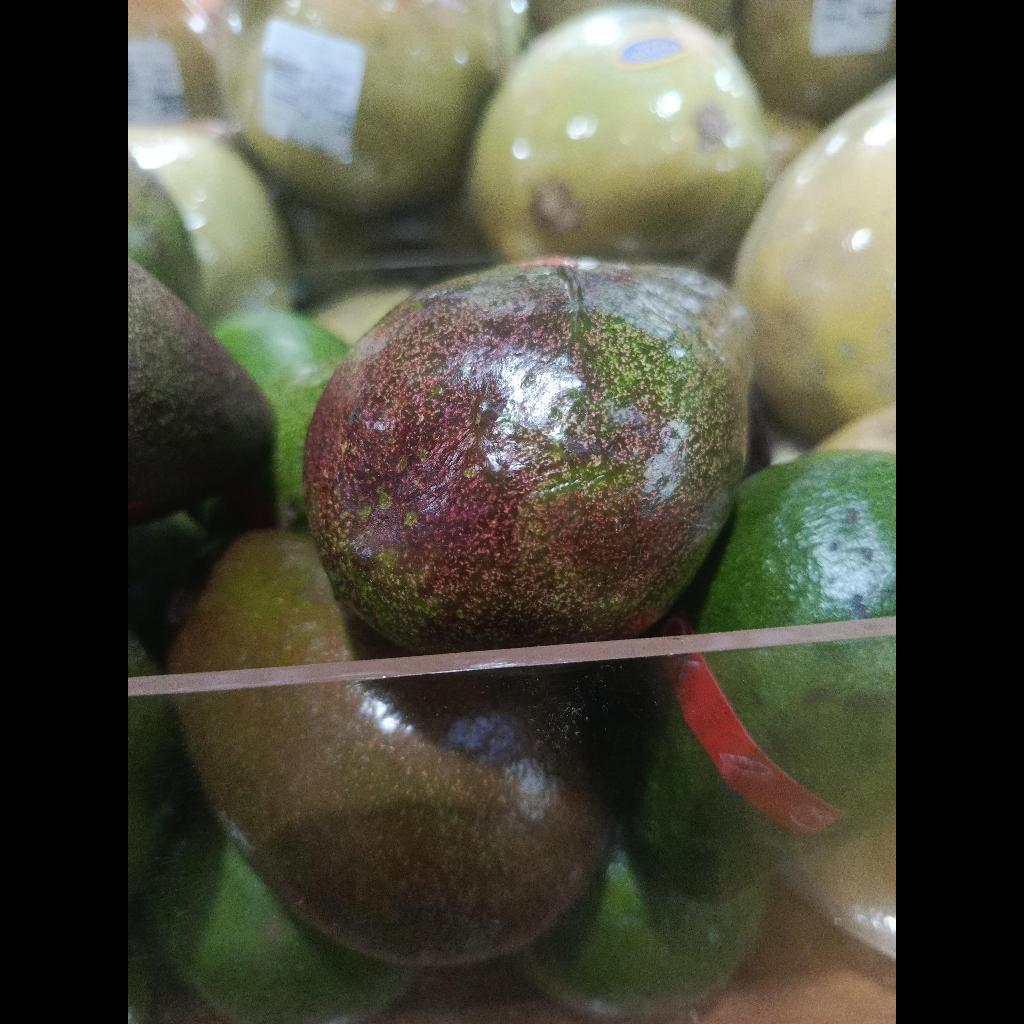antracnosis_fruto: (305, 259, 748, 653)
